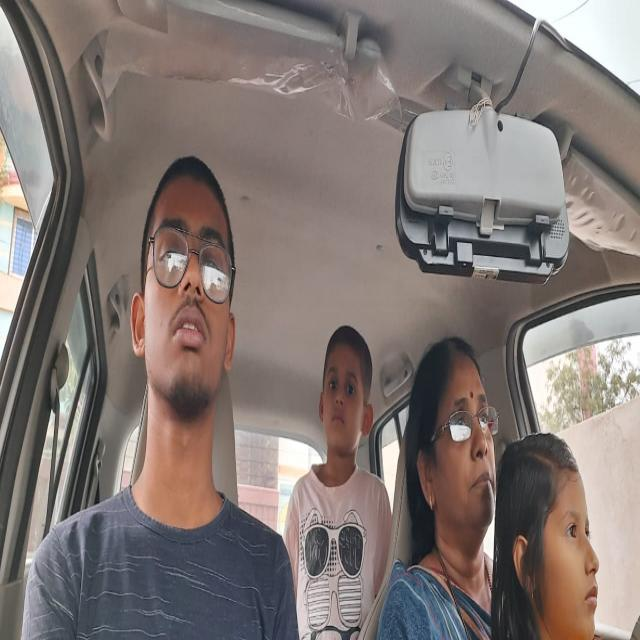child: (512, 432, 606, 640)
person: (133, 172, 234, 398), (412, 355, 496, 532), (319, 326, 375, 452)
